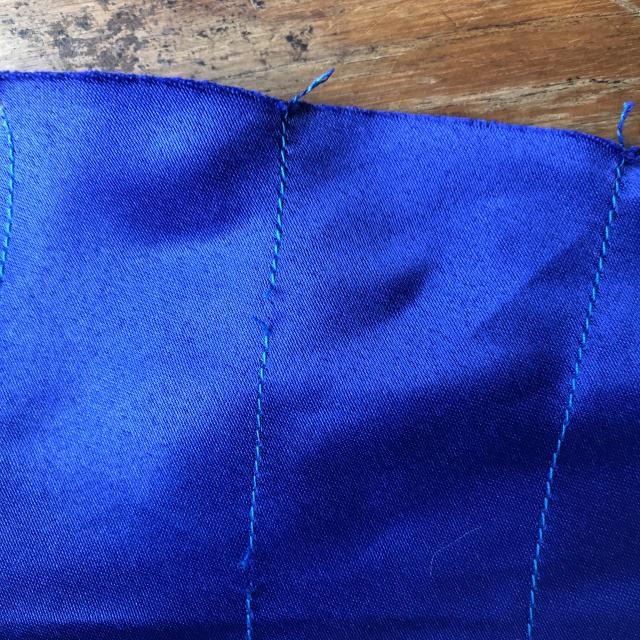broken: (242, 260, 310, 364), (208, 529, 279, 605)
good: (238, 373, 272, 469)
